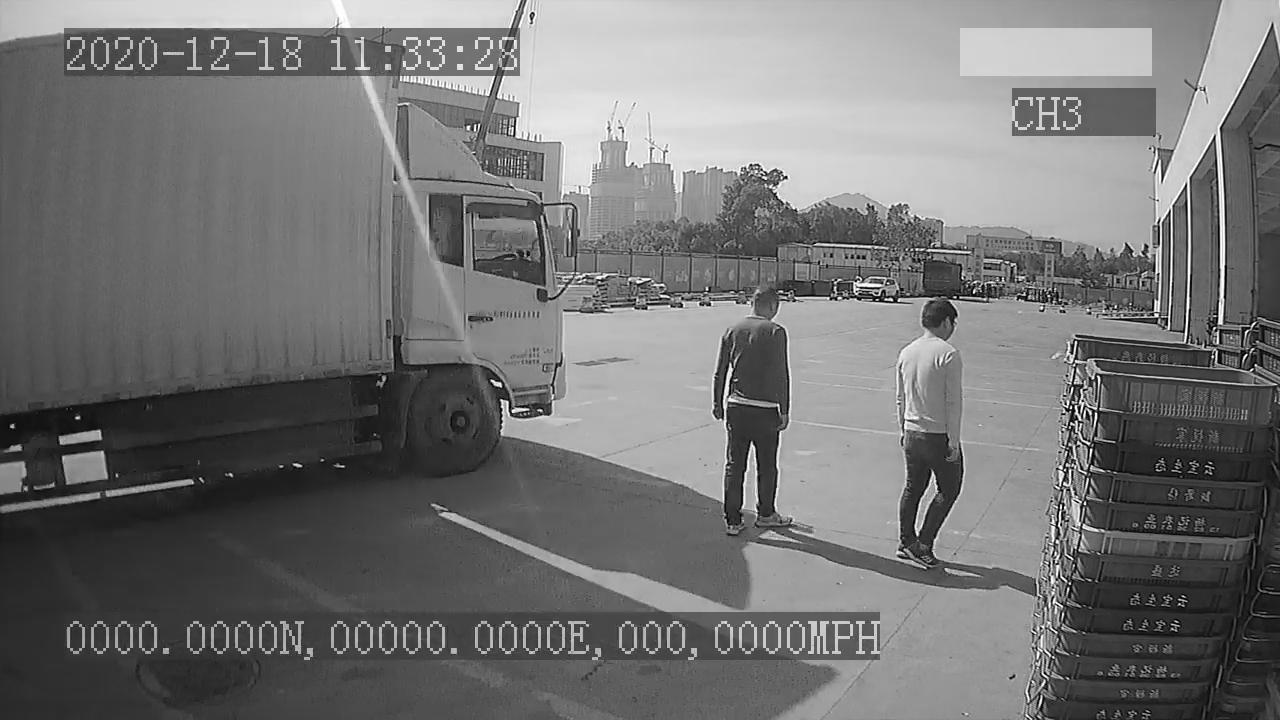person: (892, 293, 971, 569), (713, 282, 797, 534)
